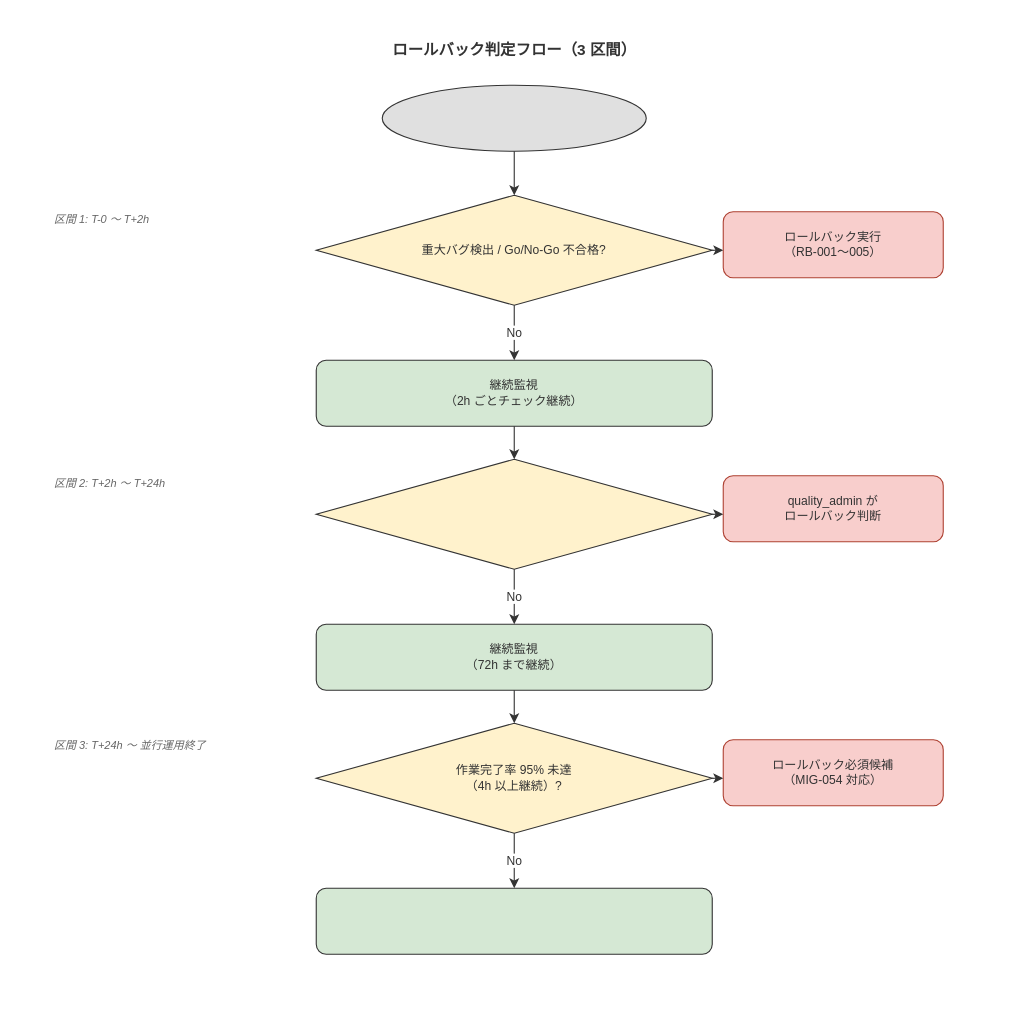
The diagram is 1027 pixels wide and 1027 high, and some of its shapes have lost their labels. Each missing label, with the centre of its shape:
"LEVEL-2/LEVEL-3 縮退検出?" goes at point 513,513.
"並行運用完了 （カットオーバー実施計画へ）" goes at point 513,920.
"縮退・障害検出" goes at point 513,117.
